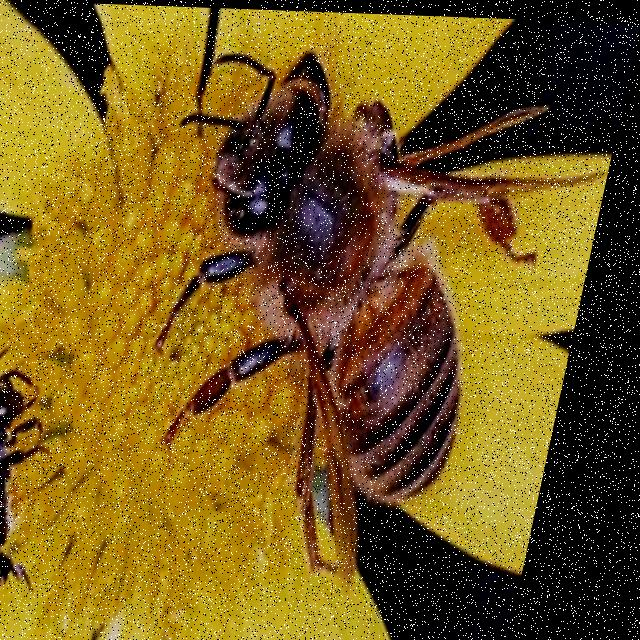Meliponula: (109, 21, 565, 605)
